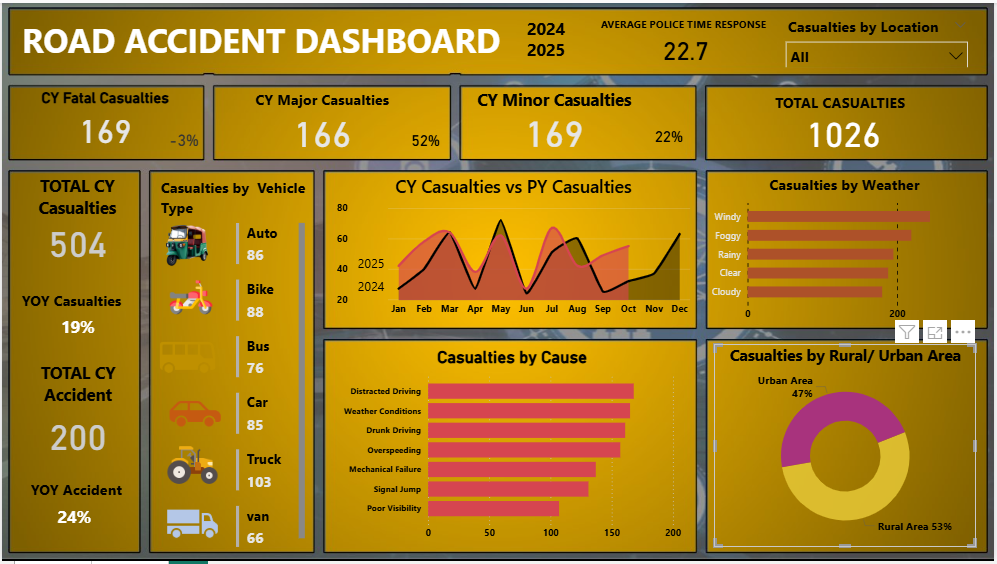

What the dashboard file says about the page in this screenshot:
{"tool":"powerbi","page":{"name":"Page 2","canvas":[1280,720],"ordinal":0},"visuals":[{"type":"card","title":"CY Minor Casualties","fields":{"Values":["Road_Accident 24-25.CY casualties"]},"box":[605.4,109.5,214.8,80.7],"z":0,"group":"g5"},{"type":"card","title":"CY  Fatal Casualties","fields":{"Values":["Road_Accident 24-25.CY casualties"]},"box":[25.9,111,214.8,79.3],"z":0,"group":"g3"},{"type":"card","title":"CY Major Casualties","fields":{"Values":["Road_Accident 24-25.CY casualties"]},"box":[305.6,111,215,81],"z":0,"group":"g4"},{"type":"card","title":"TOTAL CY Casualties","fields":{"Values":["Road_Accident 24-25.CY casualties"]},"box":[14.4,220.5,165.8,115.3],"z":0,"group":"g2"},{"type":"group","id":"g1","title":"Group 1","box":[7.1,462,182.8,219.7],"z":0},{"type":"card","title":"TOTAL CY Accident","fields":{"Values":["Road_Accident 24-25.CY Accident"]},"box":[7.1,462,183.1,131.2],"z":0,"group":"g1"},{"type":"card","fields":{"Values":["Road_Accident 24-25.YOY Casualties"]},"box":[789.3,153.4,141.3,38.9],"z":1000,"group":"g5"},{"type":"card","fields":{"Values":["Road_Accident 24-25.YOY Casualties"]},"box":[164.3,158.6,141.3,37.5],"z":1000,"group":"g3"},{"type":"card","fields":{"Values":["Road_Accident 24-25.YOY Casualties"]},"box":[476.3,158.6,139.8,38.9],"z":1000,"group":"g4"},{"type":"group","id":"g2","title":"Group 1","box":[14.4,220.5,165.8,217.7],"z":1000},{"type":"card","fields":{"Values":["Road_Accident 24-25.YOY Casualties"]},"box":[20.3,400.3,154.2,38.9],"z":1000,"group":"g2"},{"type":"card","fields":{"Values":["Road_Accident 24-25.yoy accident"]},"box":[24.1,648.7,139.8,31.7],"z":1000,"group":"g1"},{"type":"areaChart","title":"CY Casualties vs PY Casualties","fields":{"Series":["calendar.Date.Variation.Date Hierarchy.Year"],"Y":["Sum(Road_Accident 24-25.Casualties)"],"Category":["calendar.month-name"]},"box":[426.7,220.5,465.6,191.7],"z":2000},{"type":"barChart","title":" Casualties by Cause","fields":{"Category":["Road_Accident 24-25.Cause"],"Y":["Sum(Road_Accident 24-25.Casualties)"]},"box":[435.3,444,446.8,258],"z":3000},{"type":"textbox","box":[20.2,366.1,154.2,34.6],"z":4000},{"type":"textbox","box":[31.7,609.7,134.1,41.8],"z":5000},{"type":"group","id":"g3","title":"Group 1","box":[25.9,111,279.6,85],"z":6000},{"type":"group","id":"g4","title":"Group 1","box":[305.6,111,310.5,86.5],"z":7000},{"type":"group","id":"g5","title":"Group 1","box":[605.4,109.5,325.2,82.8],"z":8000},{"type":"multiRowCard","fields":{"Values":["Road_Accident 24-25.Vehicle_Type","Road_Accident 24-25.CY casualties"]},"box":[296.9,278.2,99.5,432.4],"z":9000},{"type":"textbox","box":[20.2,13,640,69.2],"z":10000},{"type":"donutChart","title":"Casualties by Rural/ Urban Area","fields":{"Category":["Road_Accident 24-25.Road_Type (groups)"],"Y":["Sum(Road_Accident 24-25.Casualties)"]},"box":[918.2,439.6,338.7,262.3],"z":11000},{"type":"barChart","title":"Casualties by Weather","fields":{"Category":["Road_Accident 24-25.Weather"],"Y":["Sum(Road_Accident 24-25.Casualties)"]},"box":[906.7,220.5,360.4,198.9],"z":12000},{"type":"textbox","box":[200.4,220.5,209,62],"z":13000},{"type":"card","title":"TOTAL CASUALTIES","fields":{"Values":["Sum(Road_Accident 24-25.Casualties)"]},"box":[988.8,134.1,194.6,62],"z":14000},{"type":"textbox","box":[929.7,111,302.7,40.4],"z":15000},{"type":"slicer","fields":{"Values":["Road_Accident 24-25.Location (groups)"]},"box":[1001.3,12.9,255.5,69.7],"z":16000},{"type":"textbox","box":[671.7,13,66.3,69.2],"z":17000},{"type":"textbox","box":[768.3,13,233.5,34.6],"z":18000},{"type":"card","fields":{"Values":["Avg(Road_Accident 24-25.avg police time respond)"]},"box":[814.2,36.1,135.5,46.5],"z":19000},{"type":"image","box":[165.8,347.2,154.5,65.2],"z":20000},{"type":"image","box":[163,412.4,154.5,87.9],"z":21000},{"type":"image","box":[174.3,489,150.2,82.2],"z":22000},{"type":"image","box":[170.1,630.7,150.2,80.8],"z":23000},{"type":"image","box":[170.1,555.6,150.2,79.4],"z":24000},{"type":"image","box":[163,276.4,150.2,70.9],"z":25000}]}

Visuals, with their boxes in screenshot pixels (x1, y1, x2, y2), scaled from the page's 1280x720 canvas onto the 997x564 screenshot:
"CY Minor Casualties" card: (left=472, top=86, right=639, bottom=149)
"CY  Fatal Casualties" card: (left=20, top=87, right=187, bottom=149)
"CY Major Casualties" card: (left=238, top=87, right=405, bottom=150)
"TOTAL CY Casualties" card: (left=11, top=173, right=140, bottom=263)
"Group 1" group: (left=6, top=362, right=148, bottom=534)
"TOTAL CY Accident" card: (left=6, top=362, right=148, bottom=465)
card - Road_Accident 24-25.YOY Casualties: (left=615, top=120, right=725, bottom=151)
card - Road_Accident 24-25.YOY Casualties: (left=128, top=124, right=238, bottom=154)
card - Road_Accident 24-25.YOY Casualties: (left=371, top=124, right=480, bottom=155)
"Group 1" group: (left=11, top=173, right=140, bottom=343)
card - Road_Accident 24-25.YOY Casualties: (left=16, top=314, right=136, bottom=344)
card - Road_Accident 24-25.yoy accident: (left=19, top=508, right=128, bottom=533)
"CY Casualties vs PY Casualties" areaChart: (left=332, top=173, right=695, bottom=323)
" Casualties by Cause" barChart: (left=339, top=348, right=687, bottom=550)
textbox: (left=16, top=287, right=136, bottom=314)
textbox: (left=25, top=478, right=129, bottom=510)
"Group 1" group: (left=20, top=87, right=238, bottom=154)
"Group 1" group: (left=238, top=87, right=480, bottom=155)
"Group 1" group: (left=472, top=86, right=725, bottom=151)
multiRowCard - Road_Accident 24-25.Vehicle_Type x Road_Accident 24-25.CY casualties: (left=231, top=218, right=309, bottom=557)
textbox: (left=16, top=10, right=514, bottom=64)
"Casualties by Rural/ Urban Area" donutChart: (left=715, top=344, right=979, bottom=550)
"Casualties by Weather" barChart: (left=706, top=173, right=987, bottom=329)
textbox: (left=156, top=173, right=319, bottom=221)
"TOTAL CASUALTIES" card: (left=770, top=105, right=922, bottom=154)
textbox: (left=724, top=87, right=960, bottom=119)
slicer - Road_Accident 24-25.Location (groups): (left=780, top=10, right=979, bottom=65)
textbox: (left=523, top=10, right=575, bottom=64)
textbox: (left=598, top=10, right=780, bottom=37)
card - Avg(Road_Accident 24-25.avg police time respond): (left=634, top=28, right=740, bottom=65)
image: (left=129, top=272, right=249, bottom=323)
image: (left=127, top=323, right=247, bottom=392)
image: (left=136, top=383, right=253, bottom=447)
image: (left=132, top=494, right=249, bottom=557)
image: (left=132, top=435, right=249, bottom=497)
image: (left=127, top=217, right=244, bottom=272)
